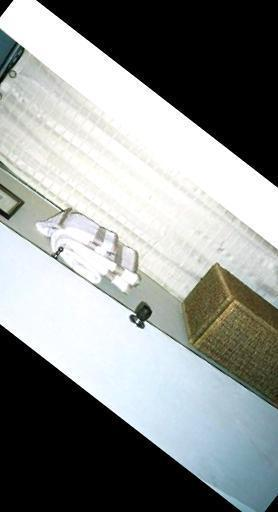Ducha: (0, 54, 278, 353)
Otro Obstaculo: (169, 260, 278, 410)
Puerta: (0, 126, 278, 512)
